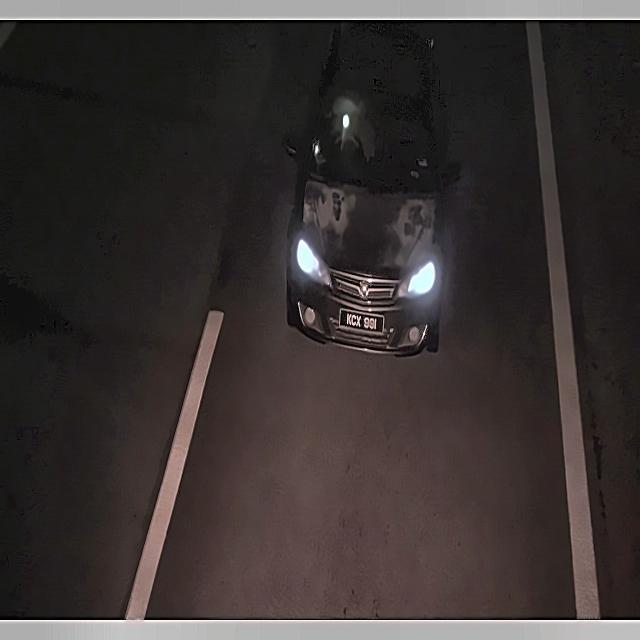car: (336, 307, 387, 336)
